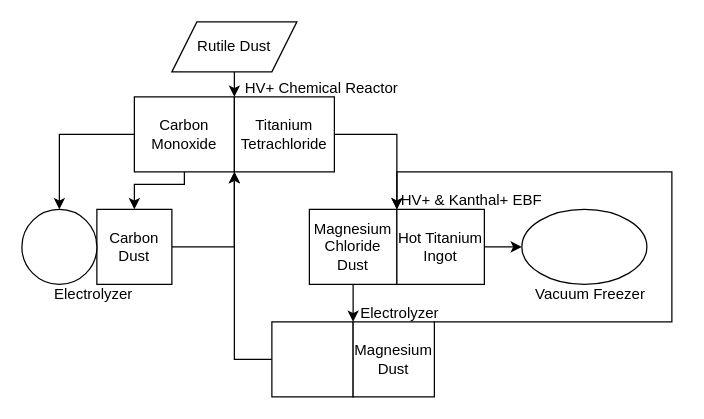
Some shapes in this 704 by 419 pixel diagram are drawn without their labels. The box of each missing label's shape, as (x1, y1, x2, y2) in pixels:
Chlorine: (271, 321, 353, 397)
Oxygen: (21, 208, 97, 284)
Titanium Ingot: (521, 208, 647, 284)
